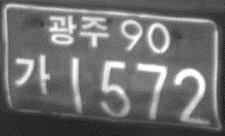0: (146, 22, 172, 55)
1: (69, 54, 85, 117)
2: (172, 66, 212, 128)
5: (99, 59, 132, 120)
7: (134, 60, 169, 123)
9: (119, 16, 143, 51)
가: (13, 52, 51, 96)
광주_O: (47, 12, 110, 50)
